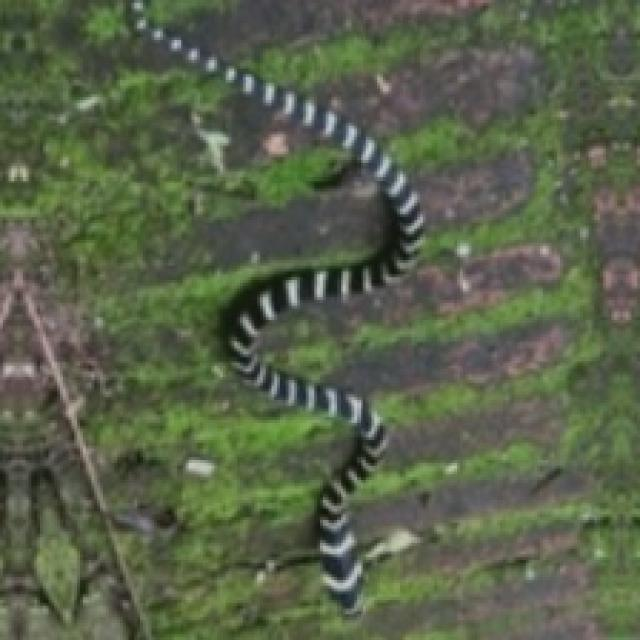king cobra: (131, 0, 423, 614)
